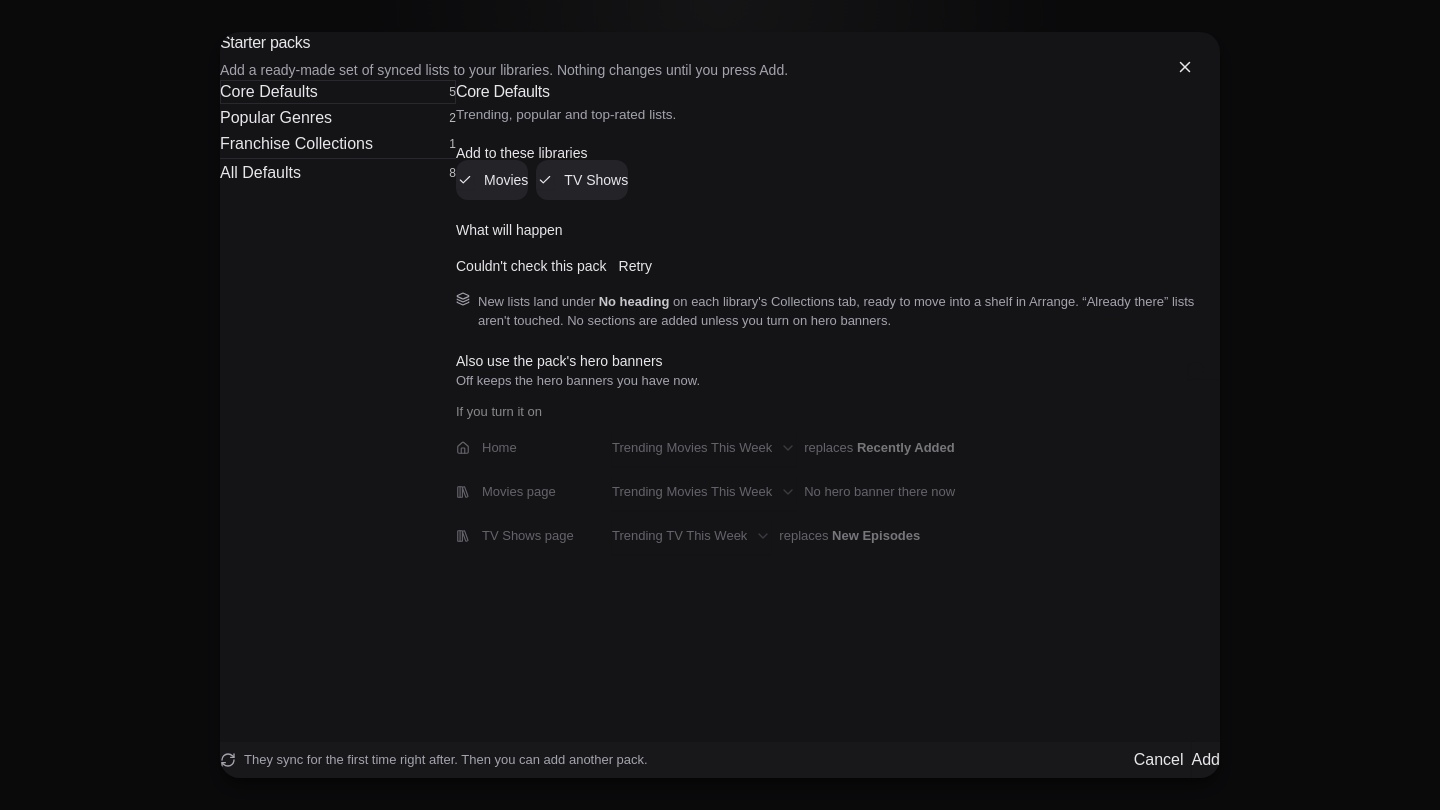
it: Starter packs › disables Add and offers Retry when the dry run fails
Expected: the text "Couldn't check this pack" is shown, [456, 256, 606, 276]
Expected: the button "Add" is disabled, [1192, 742, 1220, 778]
Click the button "Retry": (635, 266) [618, 250, 652, 282]
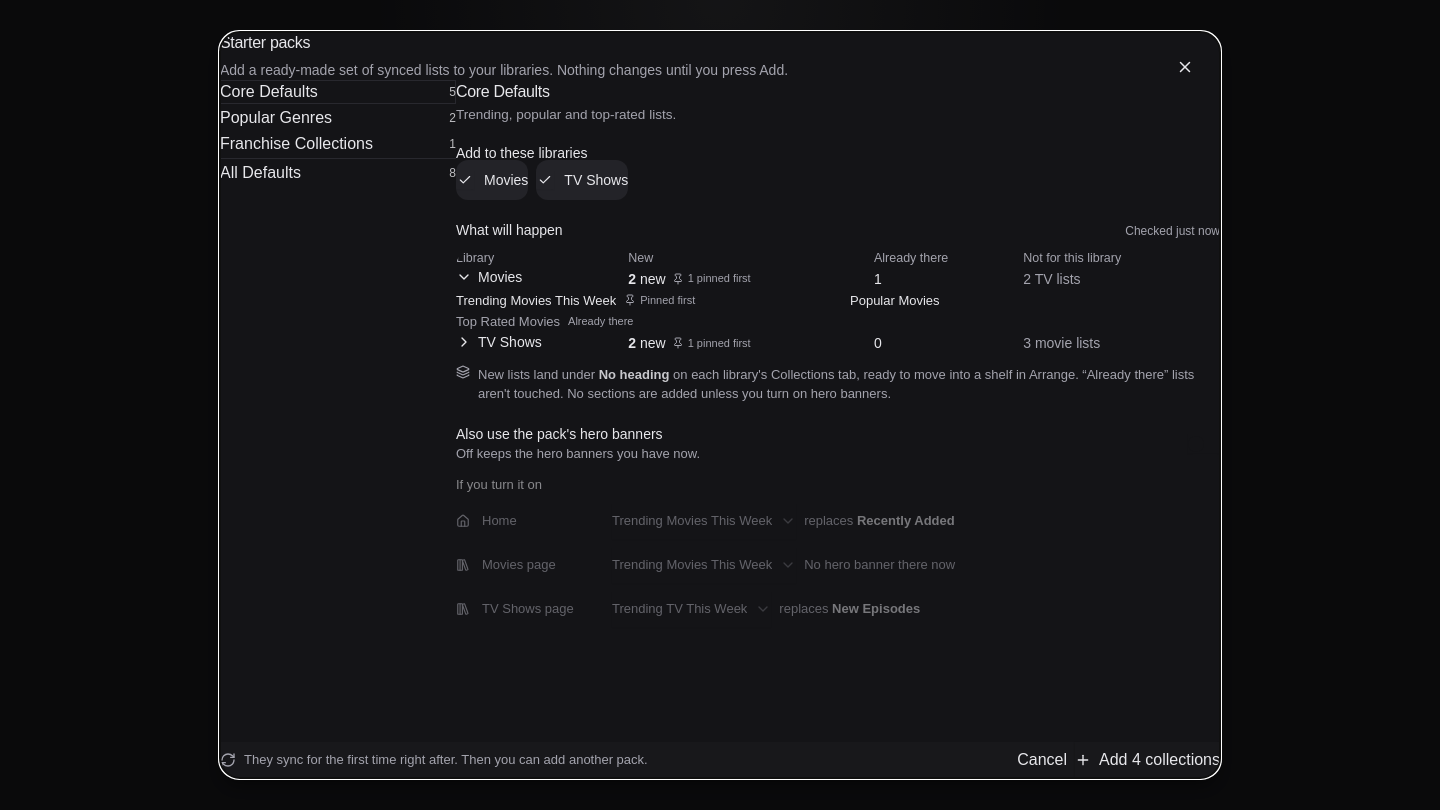
Now the button "Add 4 collections" is enabled, box [1075, 742, 1220, 778]
